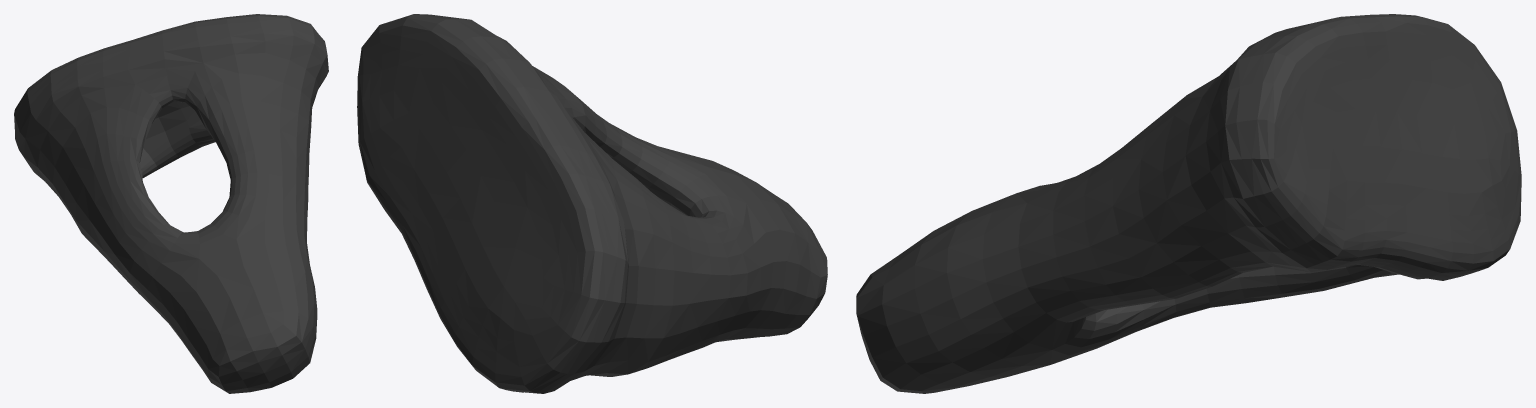
File: OSSICLE_stapes_L.glb
3 renders of one model, left to right at view 1: azimuth 30°, elevation 25°; view 2: azimuth 150°, elevation 25°; view 3: azimuth 270°, elevation 25°, orthographic. The views are drawn at different scales.
Parts seen in each view (by area): view 1: OSSICLE_stapes_L; view 2: OSSICLE_stapes_L; view 3: OSSICLE_stapes_L.
Boxes of the visible parts, x1=… form: OSSICLE_stapes_L: x1=14, y1=14, x2=328, y2=393; OSSICLE_stapes_L: x1=357, y1=14, x2=827, y2=393; OSSICLE_stapes_L: x1=856, y1=14, x2=1521, y2=393.
Bounding box in the file's own units: 0.5282 × 0.5547 × 0.7843.
Materials: 1 (1 with a texture image).
